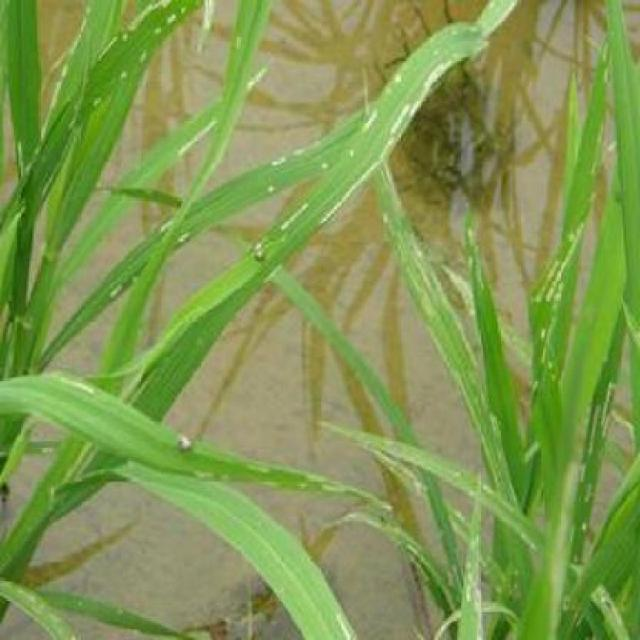rice-bug: (250, 233, 268, 264), (179, 434, 198, 455)
